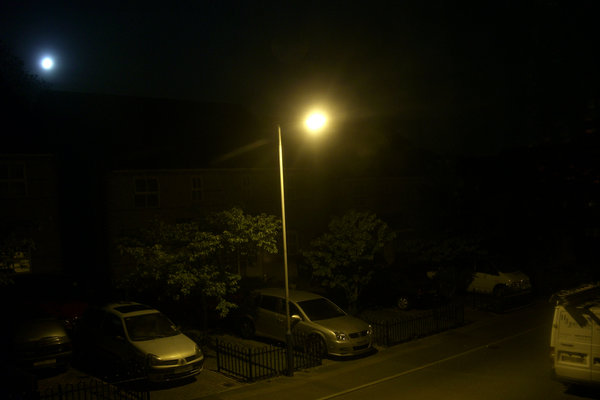car: (239, 282, 377, 365)
